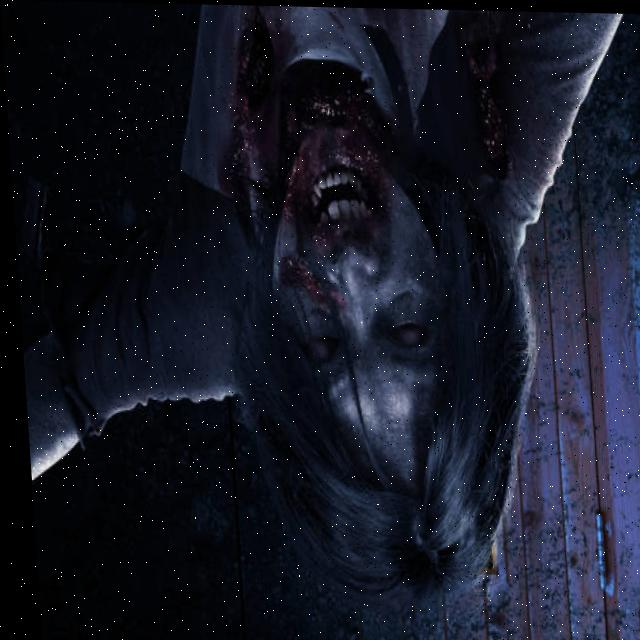Zombie: (250, 71, 460, 471)
